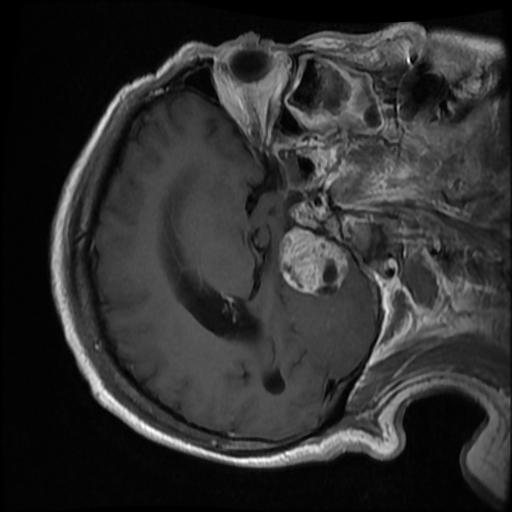meningioma: (277, 228, 349, 295)
